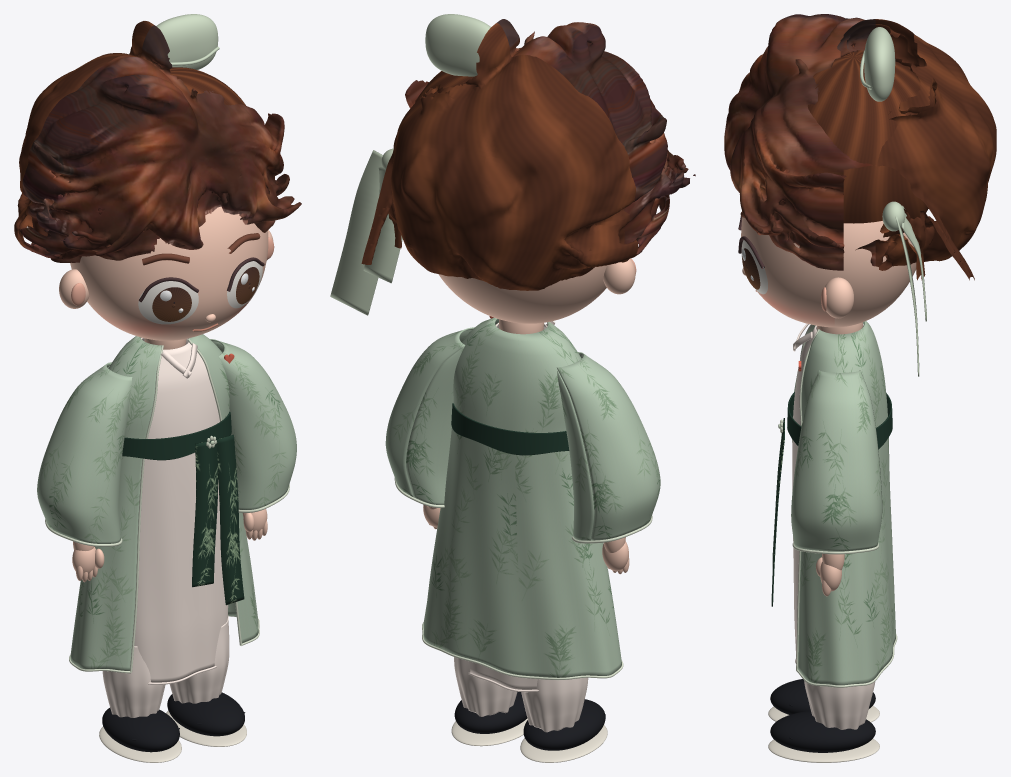
Rendered from ade.glb.
The picture shows the model from 3 angles, left to right: view 1: azimuth 30°, elevation 25°; view 2: azimuth 150°, elevation 25°; view 3: azimuth 270°, elevation 25°; orthographic projection. The views are drawn at different scales.
Parts seen in each view (by area): view 1: Reference layered hair, Ivory inner garment, Flowing open bamboo coat, Soft bell sleeve -1, Soft tapered face, Soft bell sleeve 1, Woven sash right, Woven sash left, Loose trouser hem -1, Folded pale sage cap, Black cloth shoe -1, Black cloth shoe 1 (+11 smaller); view 2: Reference layered hair, Flowing open bamboo coat, Soft bell sleeve -1, Soft bell sleeve 1, Soft tapered face, Long sage ribbon, Folded pale sage cap, Loose trouser hem -1, Slim waist band, Black cloth shoe -1, Loose trouser hem 1, Black cloth shoe 1 (+6 smaller); view 3: Reference layered hair, Flowing open bamboo coat, Soft bell sleeve 1, Continuous hair underlayer, Soft tapered face, Black cloth shoe 1, Loose trouser hem 1, Folded pale sage cap, Thin ivory sole 1, Ivory inner garment, Black cloth shoe -1, Soft ear 1 (+6 smaller).
Part boxes in pixels (x1,y1,x2,y2): Reference layered hair: [14, 21, 301, 262]; Ivory inner garment: [134, 337, 228, 682]; Flowing open bamboo coat: [70, 334, 258, 670]; Soft bell sleeve -1: [37, 362, 132, 543]; Soft tapered face: [70, 206, 268, 340]; Soft bell sleeve 1: [210, 339, 296, 509]; Woven sash right: [216, 434, 244, 605]; Woven sash left: [192, 440, 217, 587]; Loose trouser hem -1: [102, 646, 165, 717]; Folded pale sage cap: [156, 14, 218, 69]; Black cloth shoe -1: [102, 707, 179, 752]; Black cloth shoe 1: [167, 692, 244, 736]; Reference layered hair: [361, 19, 695, 290]; Flowing open bamboo coat: [423, 317, 621, 677]; Soft bell sleeve -1: [556, 352, 660, 540]; Soft bell sleeve 1: [385, 327, 474, 504]; Soft tapered face: [438, 265, 607, 323]; Long sage ribbon: [330, 150, 382, 315]; Folded pale sage cap: [425, 14, 490, 76]; Loose trouser hem -1: [521, 677, 588, 732]; Slim waist band: [451, 403, 569, 455]; Black cloth shoe -1: [523, 699, 605, 750]; Loose trouser hem 1: [454, 657, 517, 716]; Black cloth shoe 1: [454, 692, 527, 733]; Reference layered hair: [724, 14, 996, 280]; Flowing open bamboo coat: [797, 321, 895, 685]; Soft bell sleeve 1: [791, 370, 882, 551]; Continuous hair underlayer: [807, 50, 928, 237]; Soft tapered face: [741, 217, 916, 327]; Black cloth shoe 1: [770, 711, 875, 752]; Loose trouser hem 1: [804, 681, 875, 729]; Folded pale sage cap: [864, 27, 895, 101]; Thin ivory sole 1: [768, 739, 879, 762]; Ivory inner garment: [792, 324, 863, 657]; Black cloth shoe -1: [770, 679, 875, 714]; Soft ear 1: [825, 277, 853, 318].
Size of the model in its own units: 0.9792 by 2.29 by 0.7891.
22 materials, 6 textured.
